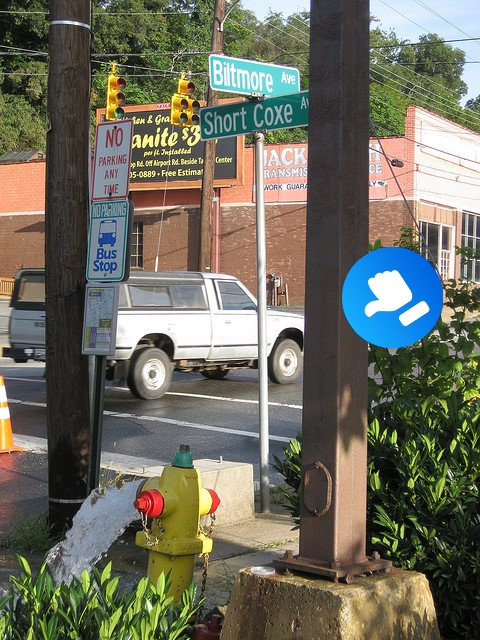like: (342, 247, 443, 348)
